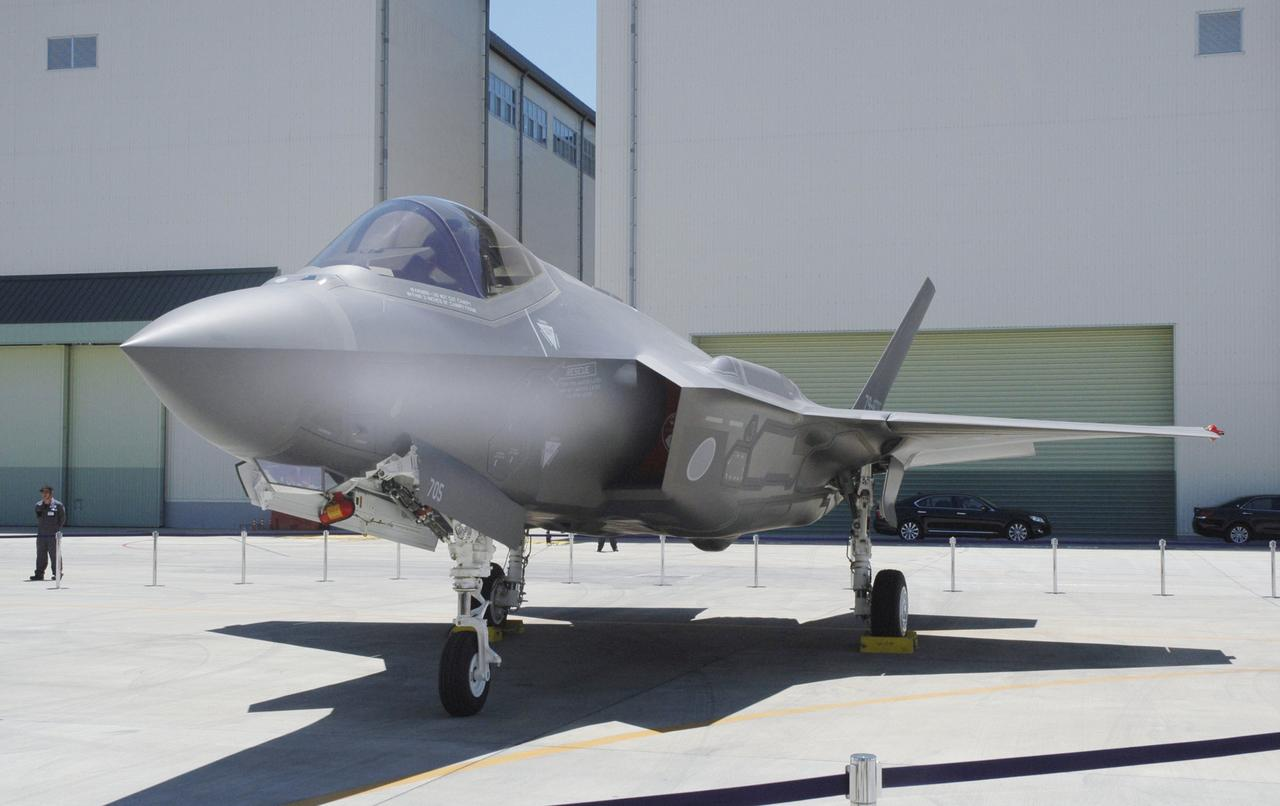F-35 Lightning: (68, 154, 1234, 747)
